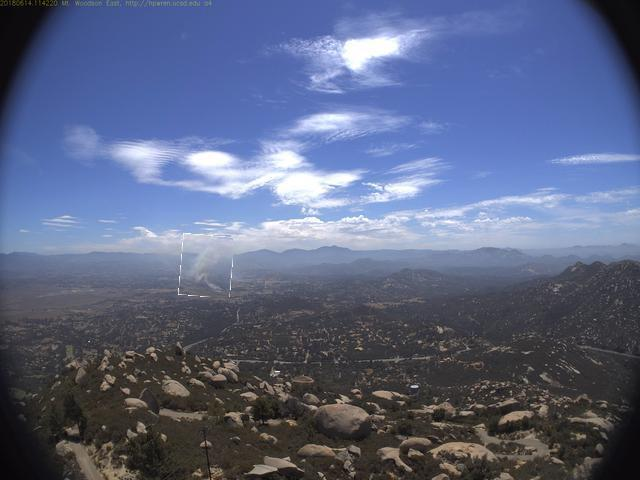smoke: (181, 235, 234, 298)
